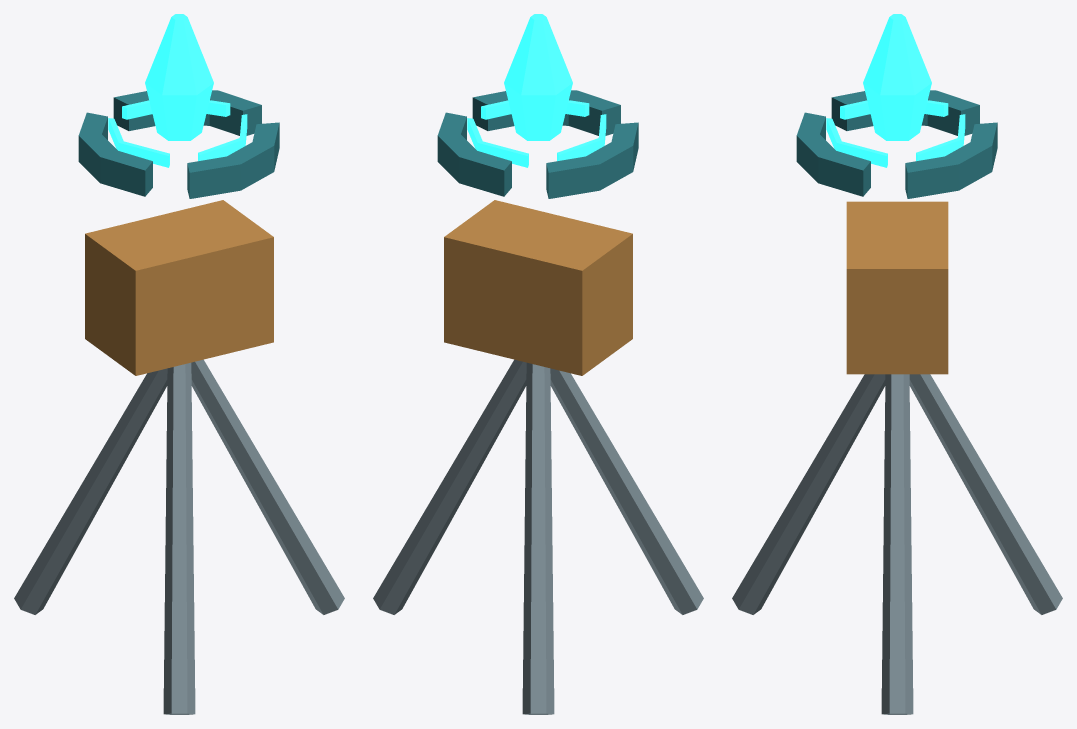
The model's file is Frontier_SurveyTripod.glb.
3 renders of one model, left to right at view 1: azimuth 30°, elevation 25°; view 2: azimuth 150°, elevation 25°; view 3: azimuth 270°, elevation 25°, orthographic.
Parts seen in each view (by area): view 1: Frontier_SurveyTripod_Scanner, Frontier_SurveyTripod_Tripod, Frontier_SurveyTripod_Lens; view 2: Frontier_SurveyTripod_Scanner, Frontier_SurveyTripod_Tripod, Frontier_SurveyTripod_Lens; view 3: Frontier_SurveyTripod_Tripod, Frontier_SurveyTripod_Lens, Frontier_SurveyTripod_Scanner.
Part boxes in pixels (x1,y1,x2,y2): Frontier_SurveyTripod_Scanner: [85, 200, 273, 375]; Frontier_SurveyTripod_Tripod: [14, 359, 344, 714]; Frontier_SurveyTripod_Lens: [78, 14, 279, 198]; Frontier_SurveyTripod_Scanner: [444, 200, 632, 375]; Frontier_SurveyTripod_Tripod: [373, 359, 703, 714]; Frontier_SurveyTripod_Lens: [437, 14, 638, 198]; Frontier_SurveyTripod_Tripod: [732, 374, 1062, 714]; Frontier_SurveyTripod_Lens: [796, 14, 997, 198]; Frontier_SurveyTripod_Scanner: [846, 201, 948, 374].
Size of the model in its own units: 0.9898 by 2.39 by 1.14.
